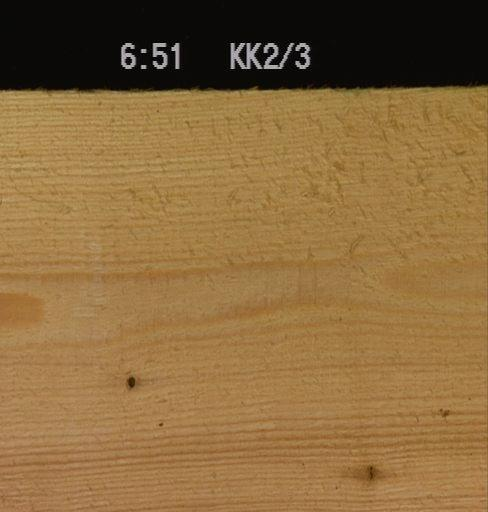dry_knot: (125, 372, 136, 390)
small_knot: (366, 462, 376, 482)
